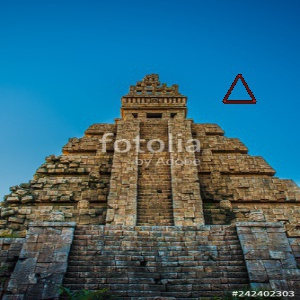triangle: (219, 72, 259, 107)
